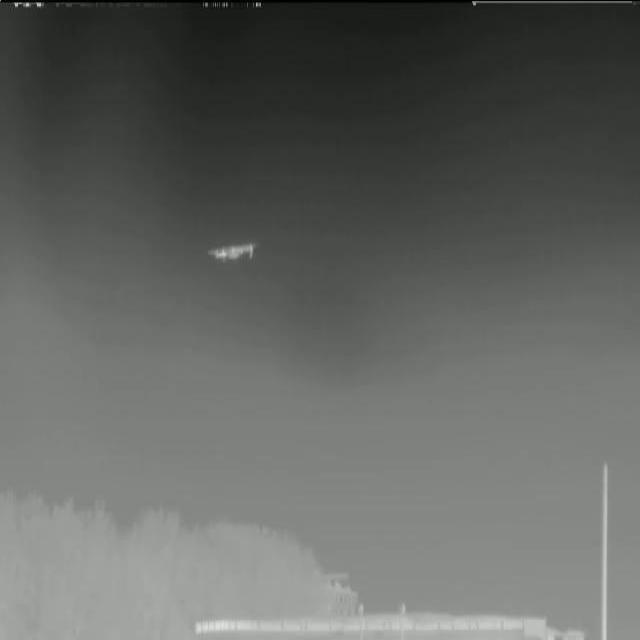DRONE: (198, 230, 267, 272)
